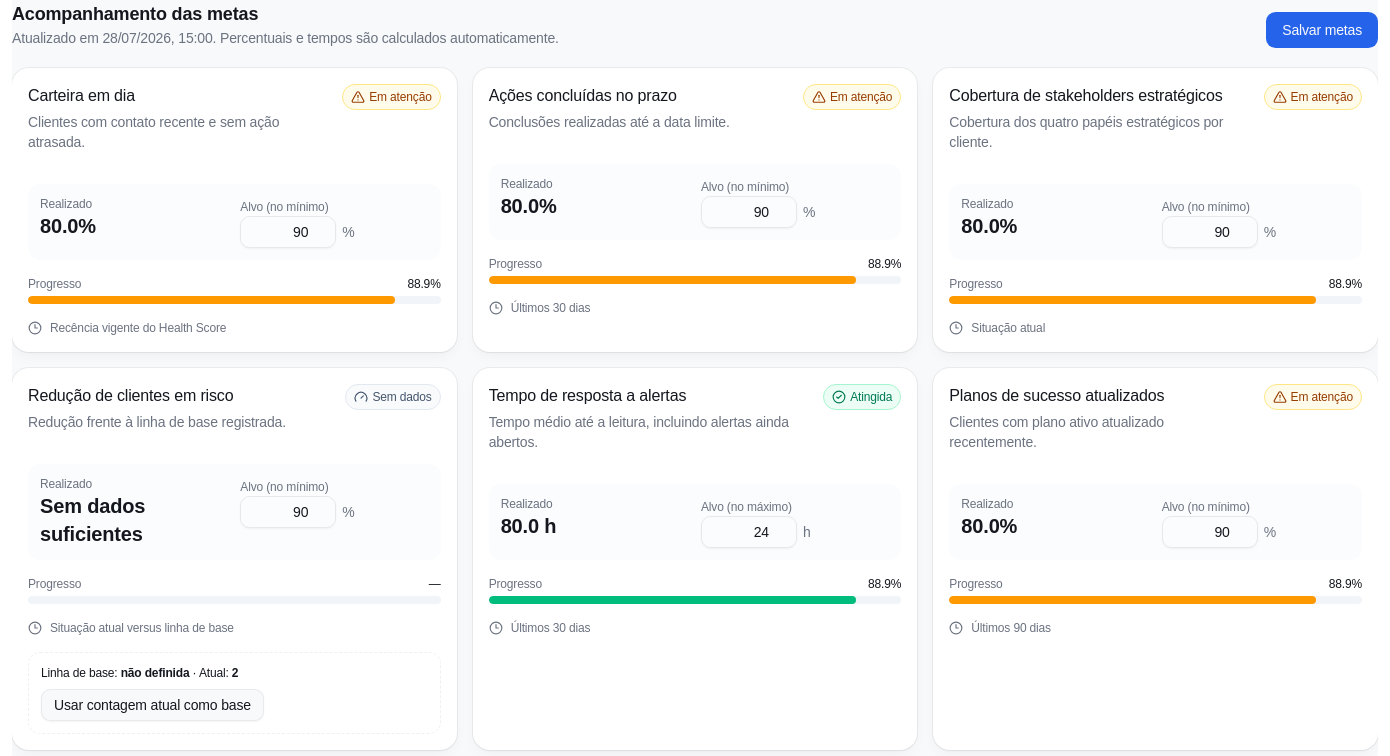
Test: InternalGoalsDashboard › valida e persiste os seis alvos para a liderança
The width and height of the screenshot is (1390, 756).
Step 1. Replace the text in the number field named "Alvo de Carteira em dia" with "101" → (288, 232), box [240,216,336,248]
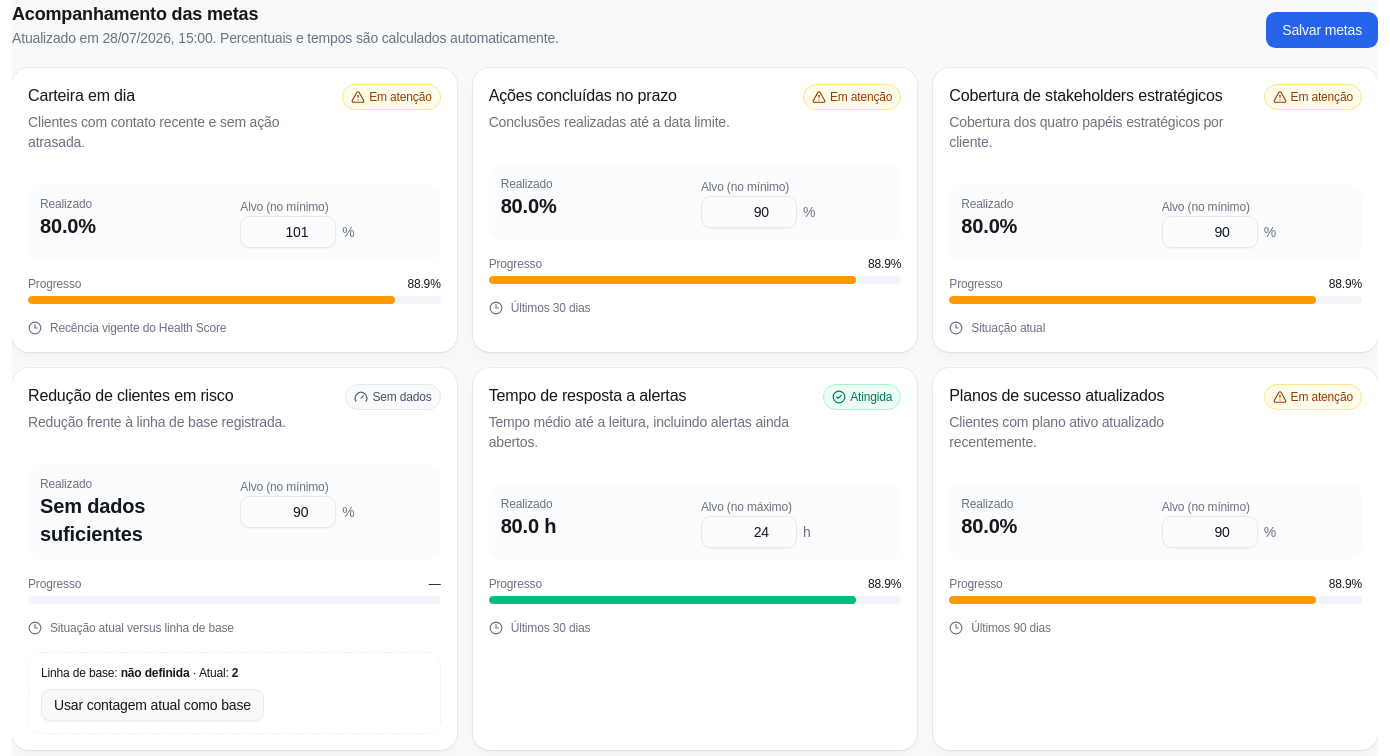
Step 2. Click the button "Salvar metas" → click(1322, 30), box [1266,12,1378,48]
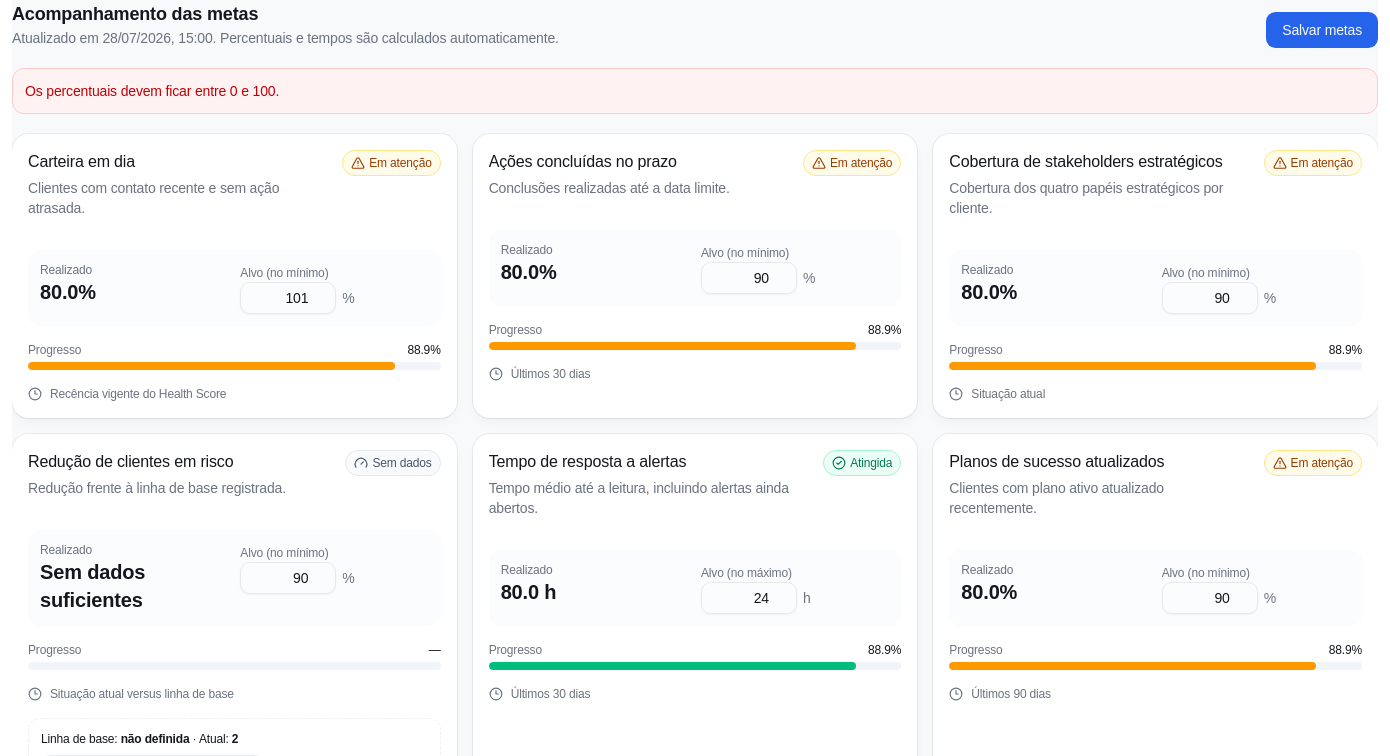
Now the message shows "percentuais devem ficar entre 0 e 100", box [25,83,279,99]
Step 3. Replace the text in the number field named "Alvo de Carteira em dia" with "85" → (288, 298), box [240,282,336,314]
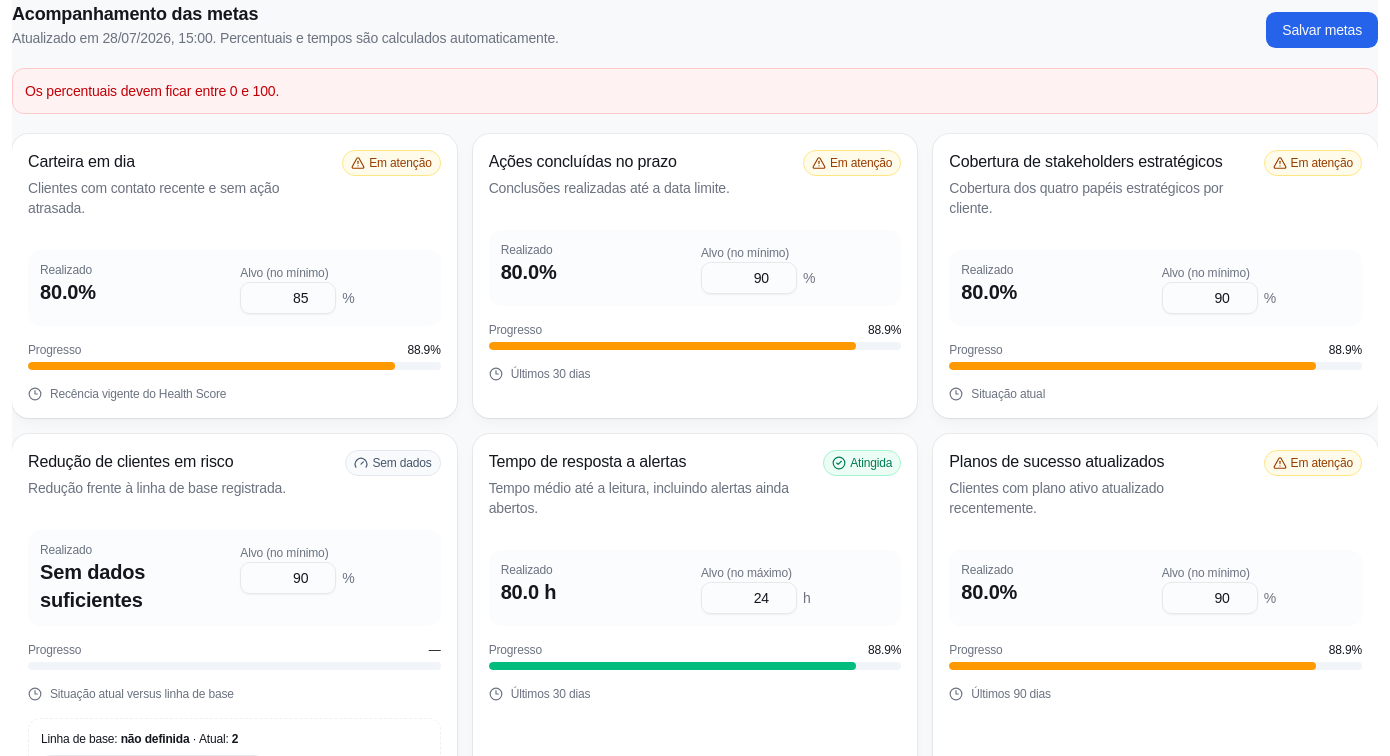
Step 4. Click the button "Salvar metas" → click(1322, 30), box [1266,12,1378,48]
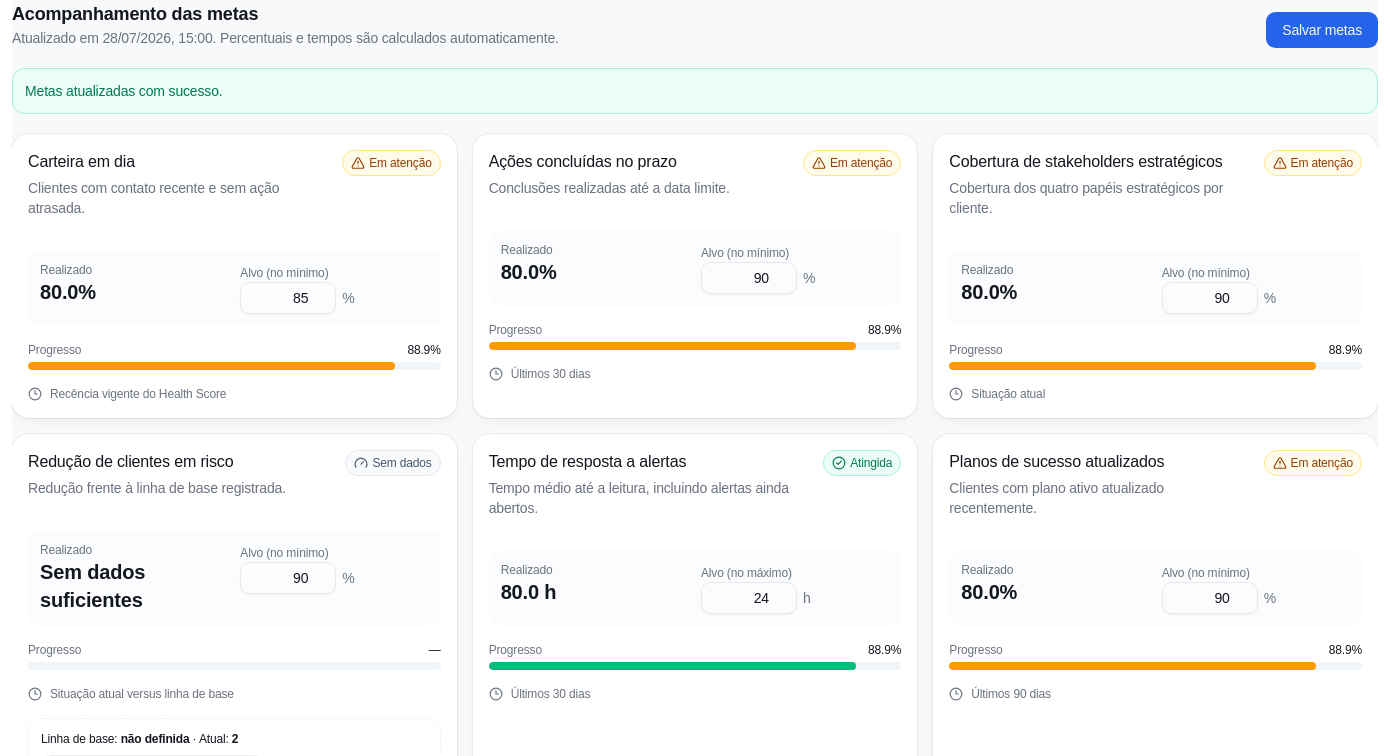
Now the message shows "Metas atualizadas com sucesso", box [25,83,222,99]
